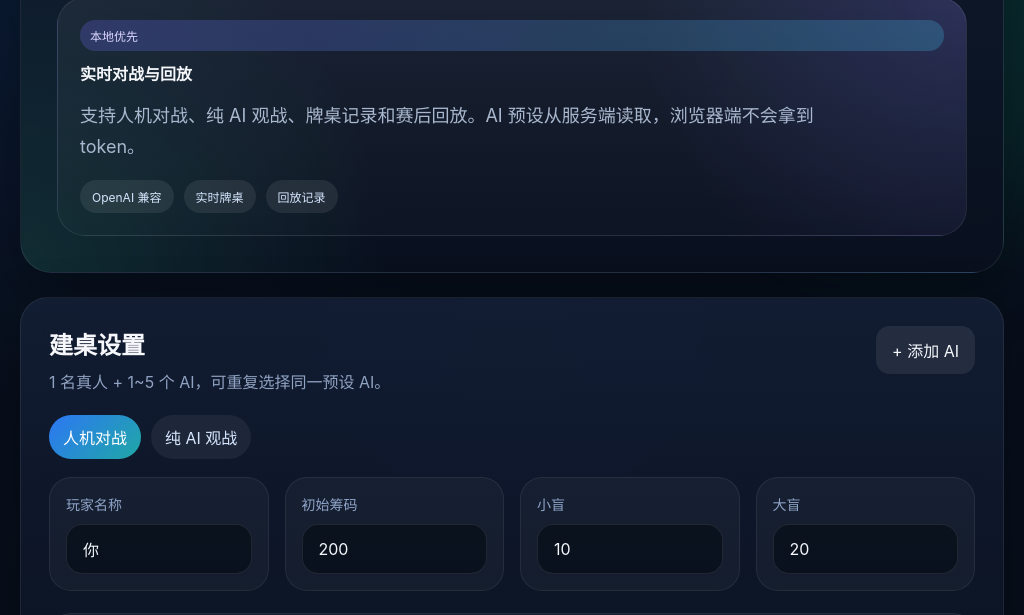
App flow › prefers the next preset instead of duplicating A when adding a new AI seat
(page scrolled)
Expected: the heading "建桌设置" is shown, [49, 331, 145, 360]
Click the button "+ 添加 AI": (926, 350) [876, 326, 975, 374]
(page scrolled)
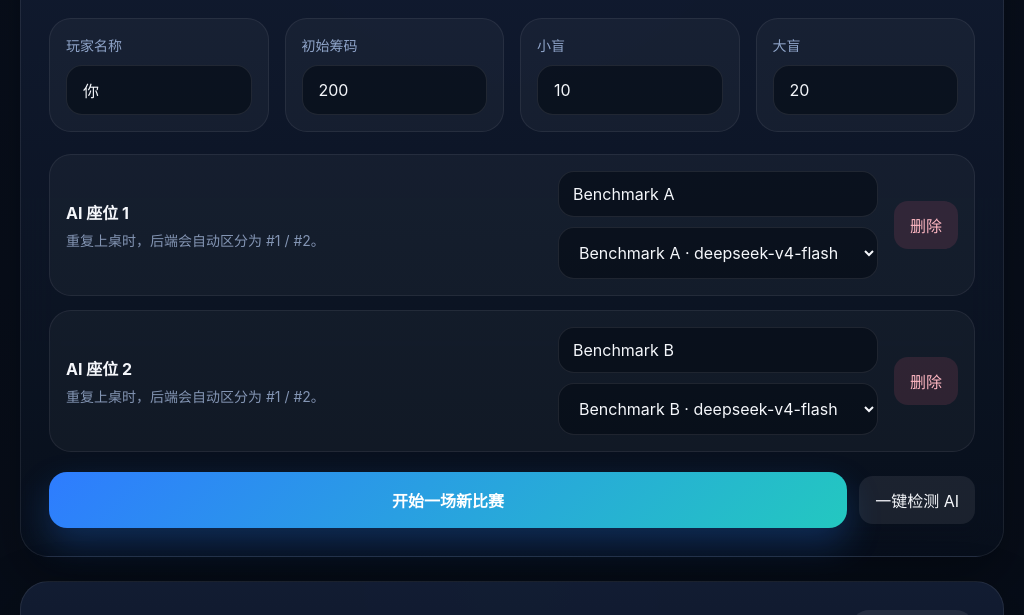
Expected: the 1st field showing "Benchmark A" is shown, [558, 171, 878, 217]
Expected: the 2nd field showing "Benchmark B" is shown, [558, 327, 878, 373]
